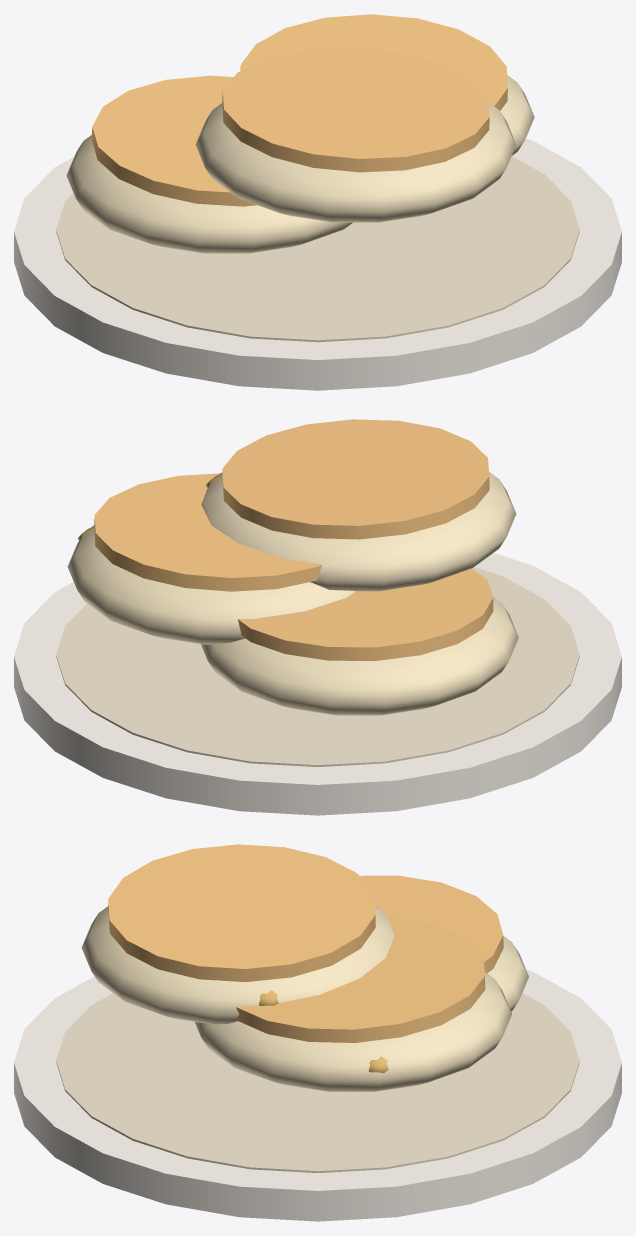
File: hotteok.glb
3 views of the same model, one above another, from view 1: azimuth 30°, elevation 25°; view 2: azimuth 150°, elevation 25°; view 3: azimuth 270°, elevation 25° (orthographic).
Visible parts, largest first — view 1: hotteok; view 2: hotteok; view 3: hotteok.
Part boxes in pixels (box(x1,y1,x2,y2)): hotteok: box(14, 14, 621, 390); hotteok: box(14, 419, 621, 815); hotteok: box(14, 844, 621, 1221).
Bounding box in the file's own units: 0.144 × 0.0502 × 0.144.
